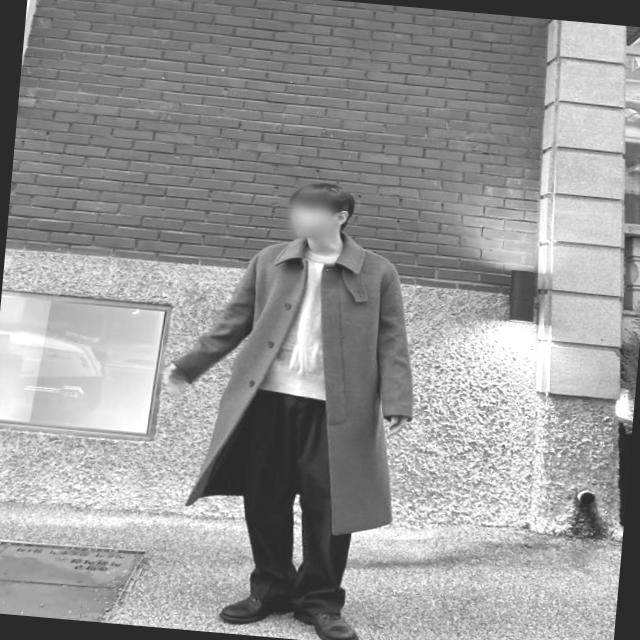coat: (156, 216, 430, 540)
slacks: (222, 382, 362, 620)
sweater: (260, 247, 351, 403)
